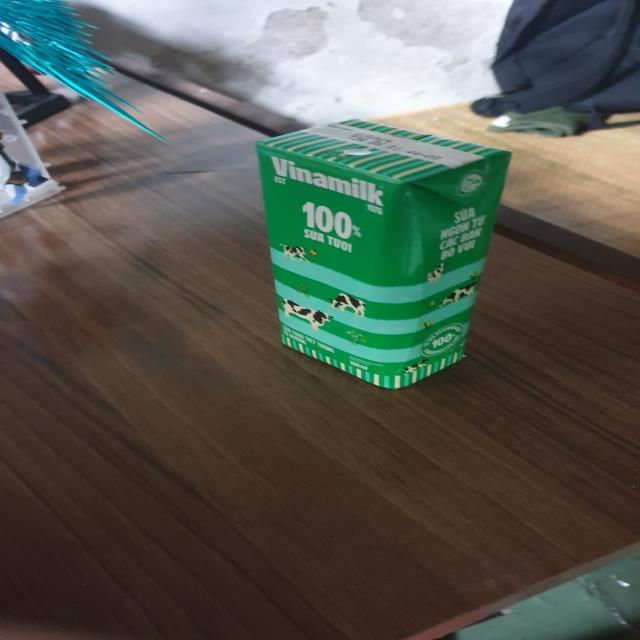Vina: (254, 116, 515, 395)
